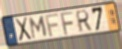7: (91, 6, 104, 32)
F: (44, 12, 60, 38), (59, 10, 74, 36)
M: (29, 15, 48, 40)
R: (76, 9, 93, 34)
X: (14, 16, 33, 43)
